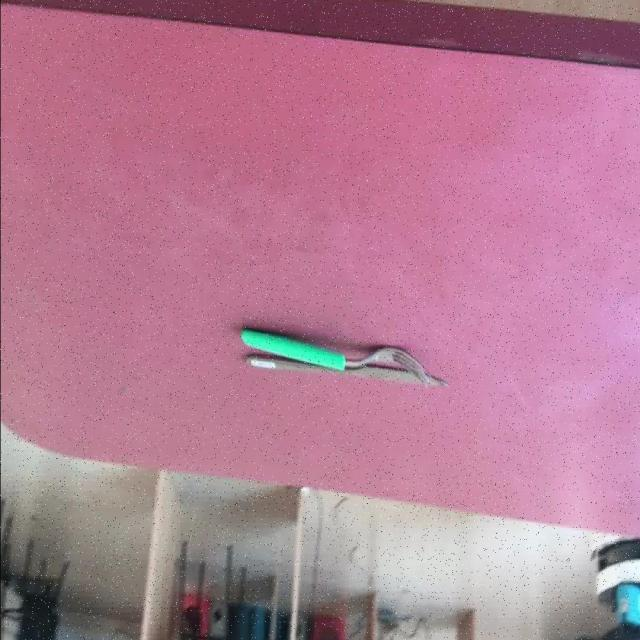Fork: (241, 325, 449, 388)
Knife: (241, 325, 449, 388)
